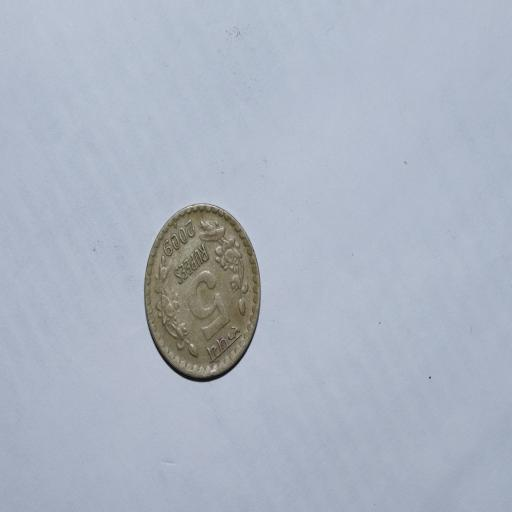rupee5: (143, 200, 263, 380)
